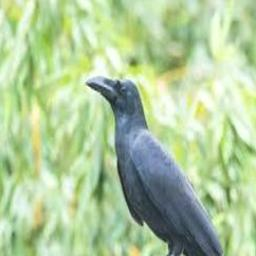Crow: (85, 75, 238, 256)
